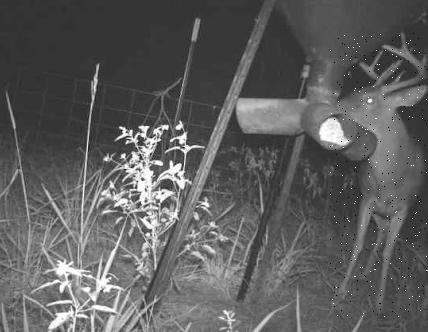Deer: (330, 33, 428, 317)
